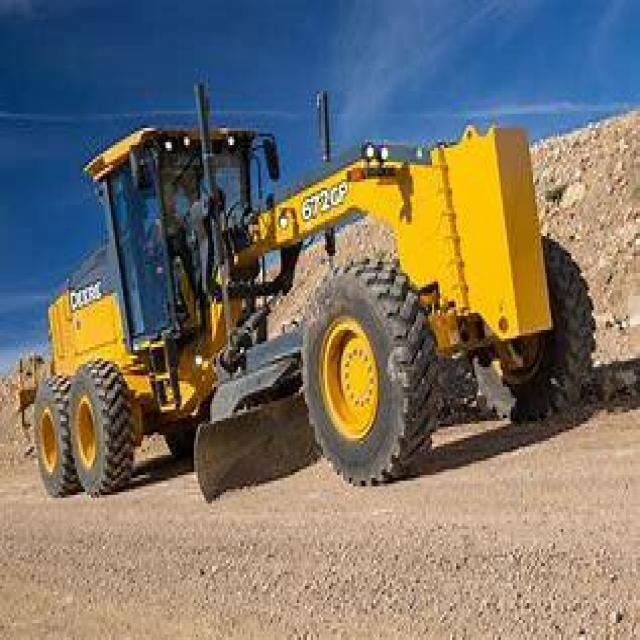Grader: (18, 86, 596, 503)
